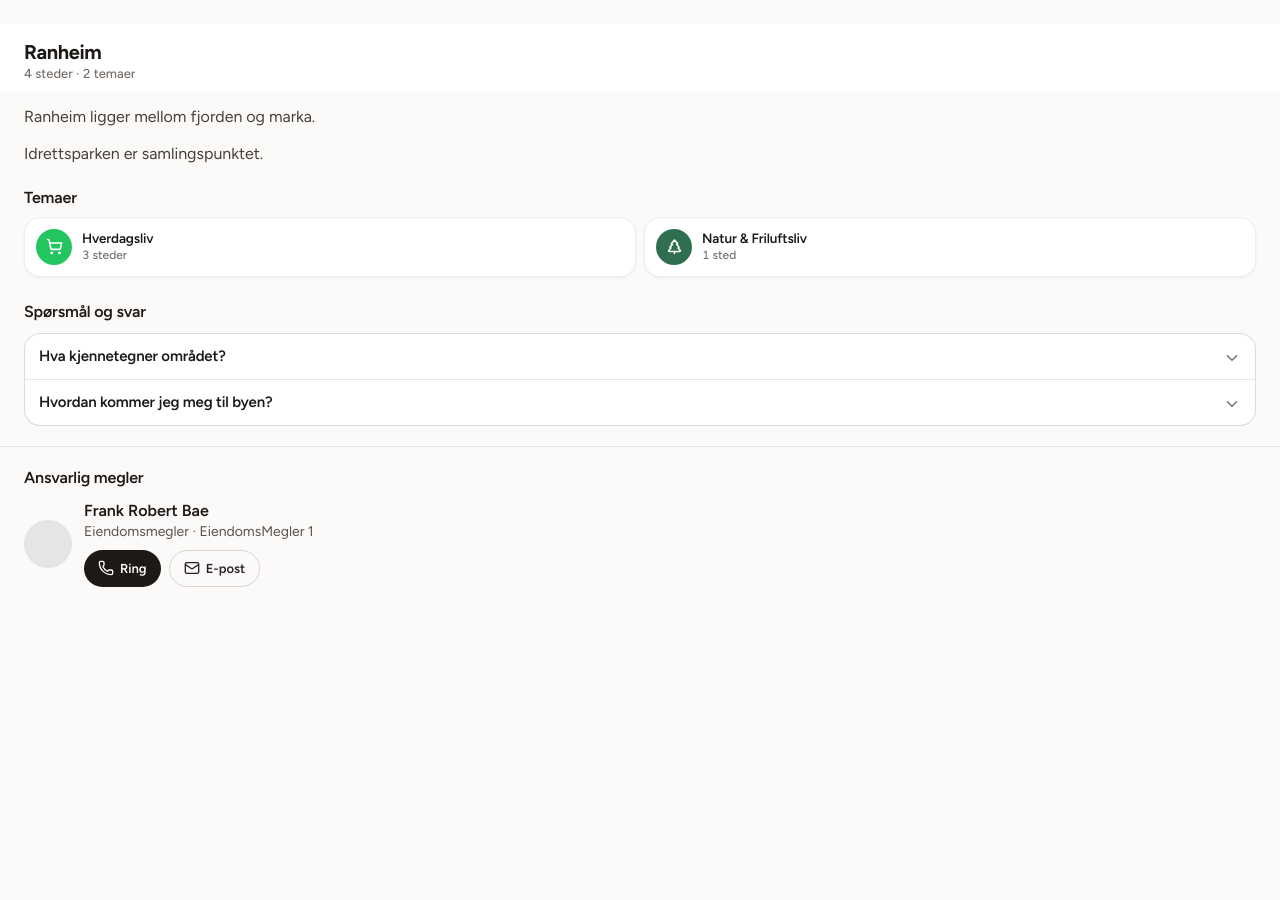
Test: raden › har bare temaene — utgangen er en egen knapp foran, med pil og navnet «Tilbake»
The image size is (1280, 900).
Click the text "Hverdagsliv" at (118, 238), box [82,230,153,246]
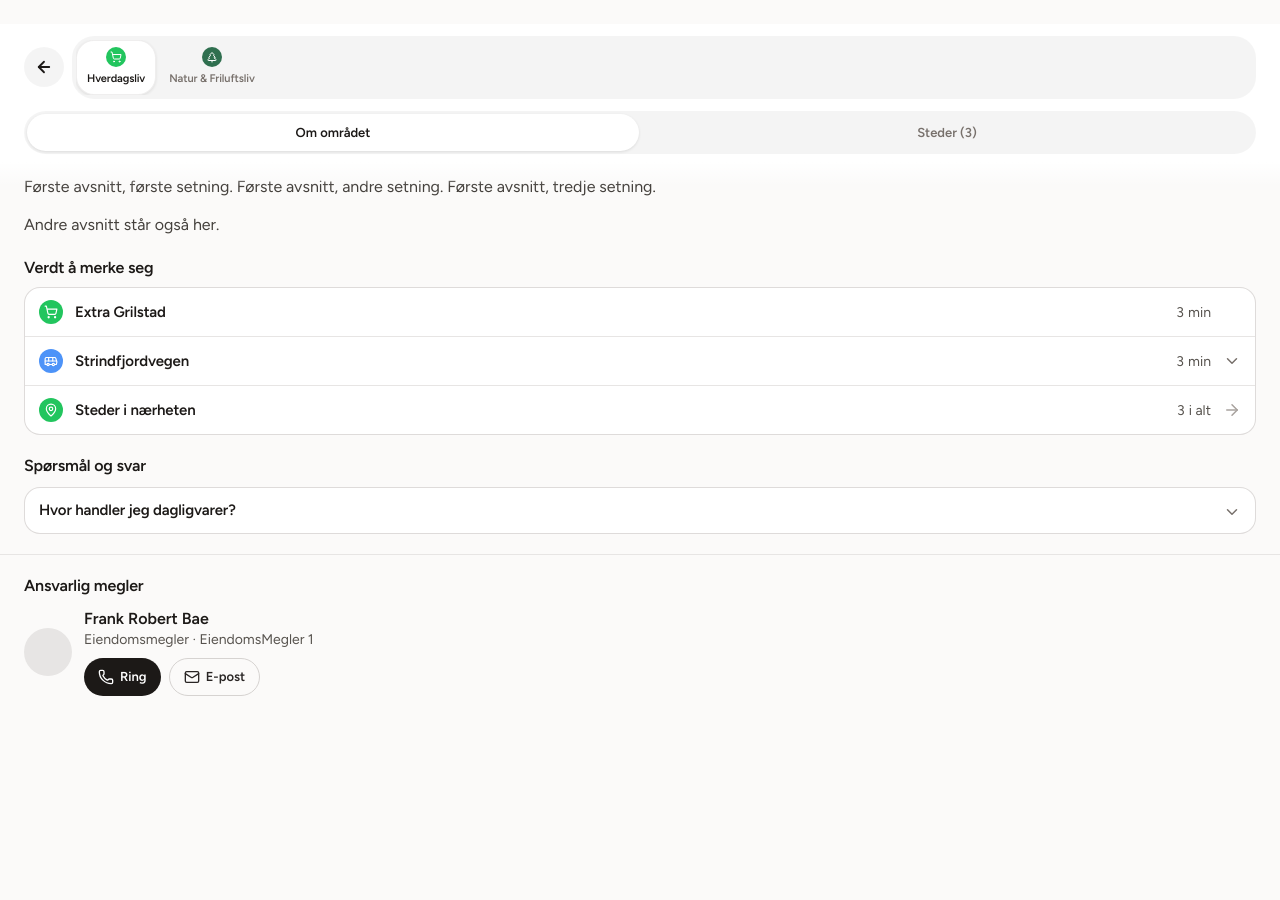
Now the tabs read "Hverdagsliv", "Natur & Friluftsliv", in this order, box [76,40,156,94]; [158,40,266,94]
Now the button named "Tilbake" is empty, box [24,47,64,87]
